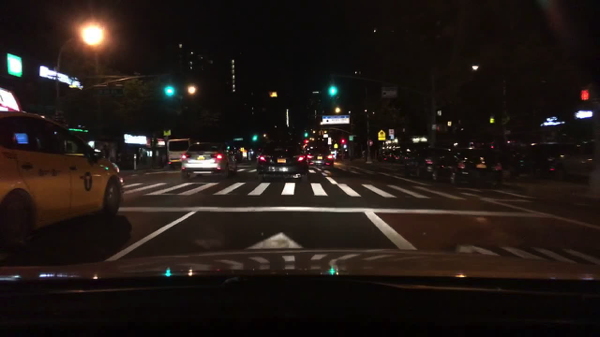car: (0, 108, 123, 248), (432, 147, 504, 188), (255, 141, 311, 182), (179, 141, 237, 180), (553, 139, 598, 181), (528, 143, 564, 176), (402, 142, 431, 177), (419, 148, 450, 179), (504, 142, 531, 173), (165, 138, 191, 168), (305, 147, 336, 166), (381, 149, 402, 165), (228, 146, 243, 162)
traffic light: (162, 85, 175, 98), (328, 84, 339, 97), (580, 90, 589, 102), (340, 139, 348, 147), (367, 138, 374, 146), (304, 132, 308, 137)
traffic sign: (31, 66, 86, 88), (7, 53, 23, 77), (322, 114, 351, 125), (124, 132, 147, 145), (381, 85, 400, 98), (375, 130, 387, 136), (432, 121, 438, 130), (389, 128, 395, 137), (489, 118, 496, 124), (447, 121, 454, 127), (377, 136, 387, 140), (326, 137, 331, 145), (233, 137, 245, 140), (348, 136, 354, 141), (333, 144, 338, 149)
